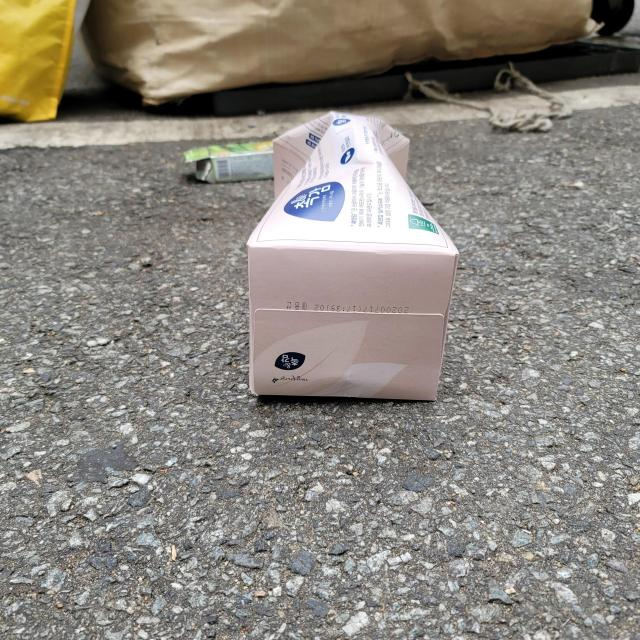paperpack: (247, 111, 458, 400), (183, 141, 273, 183)
